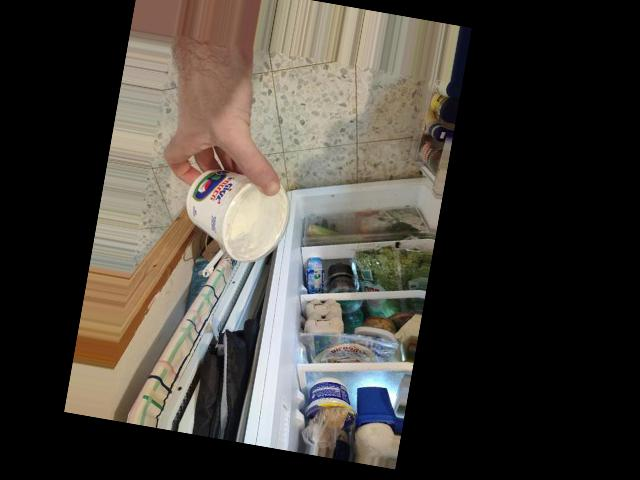cotage: (183, 167, 277, 258)
